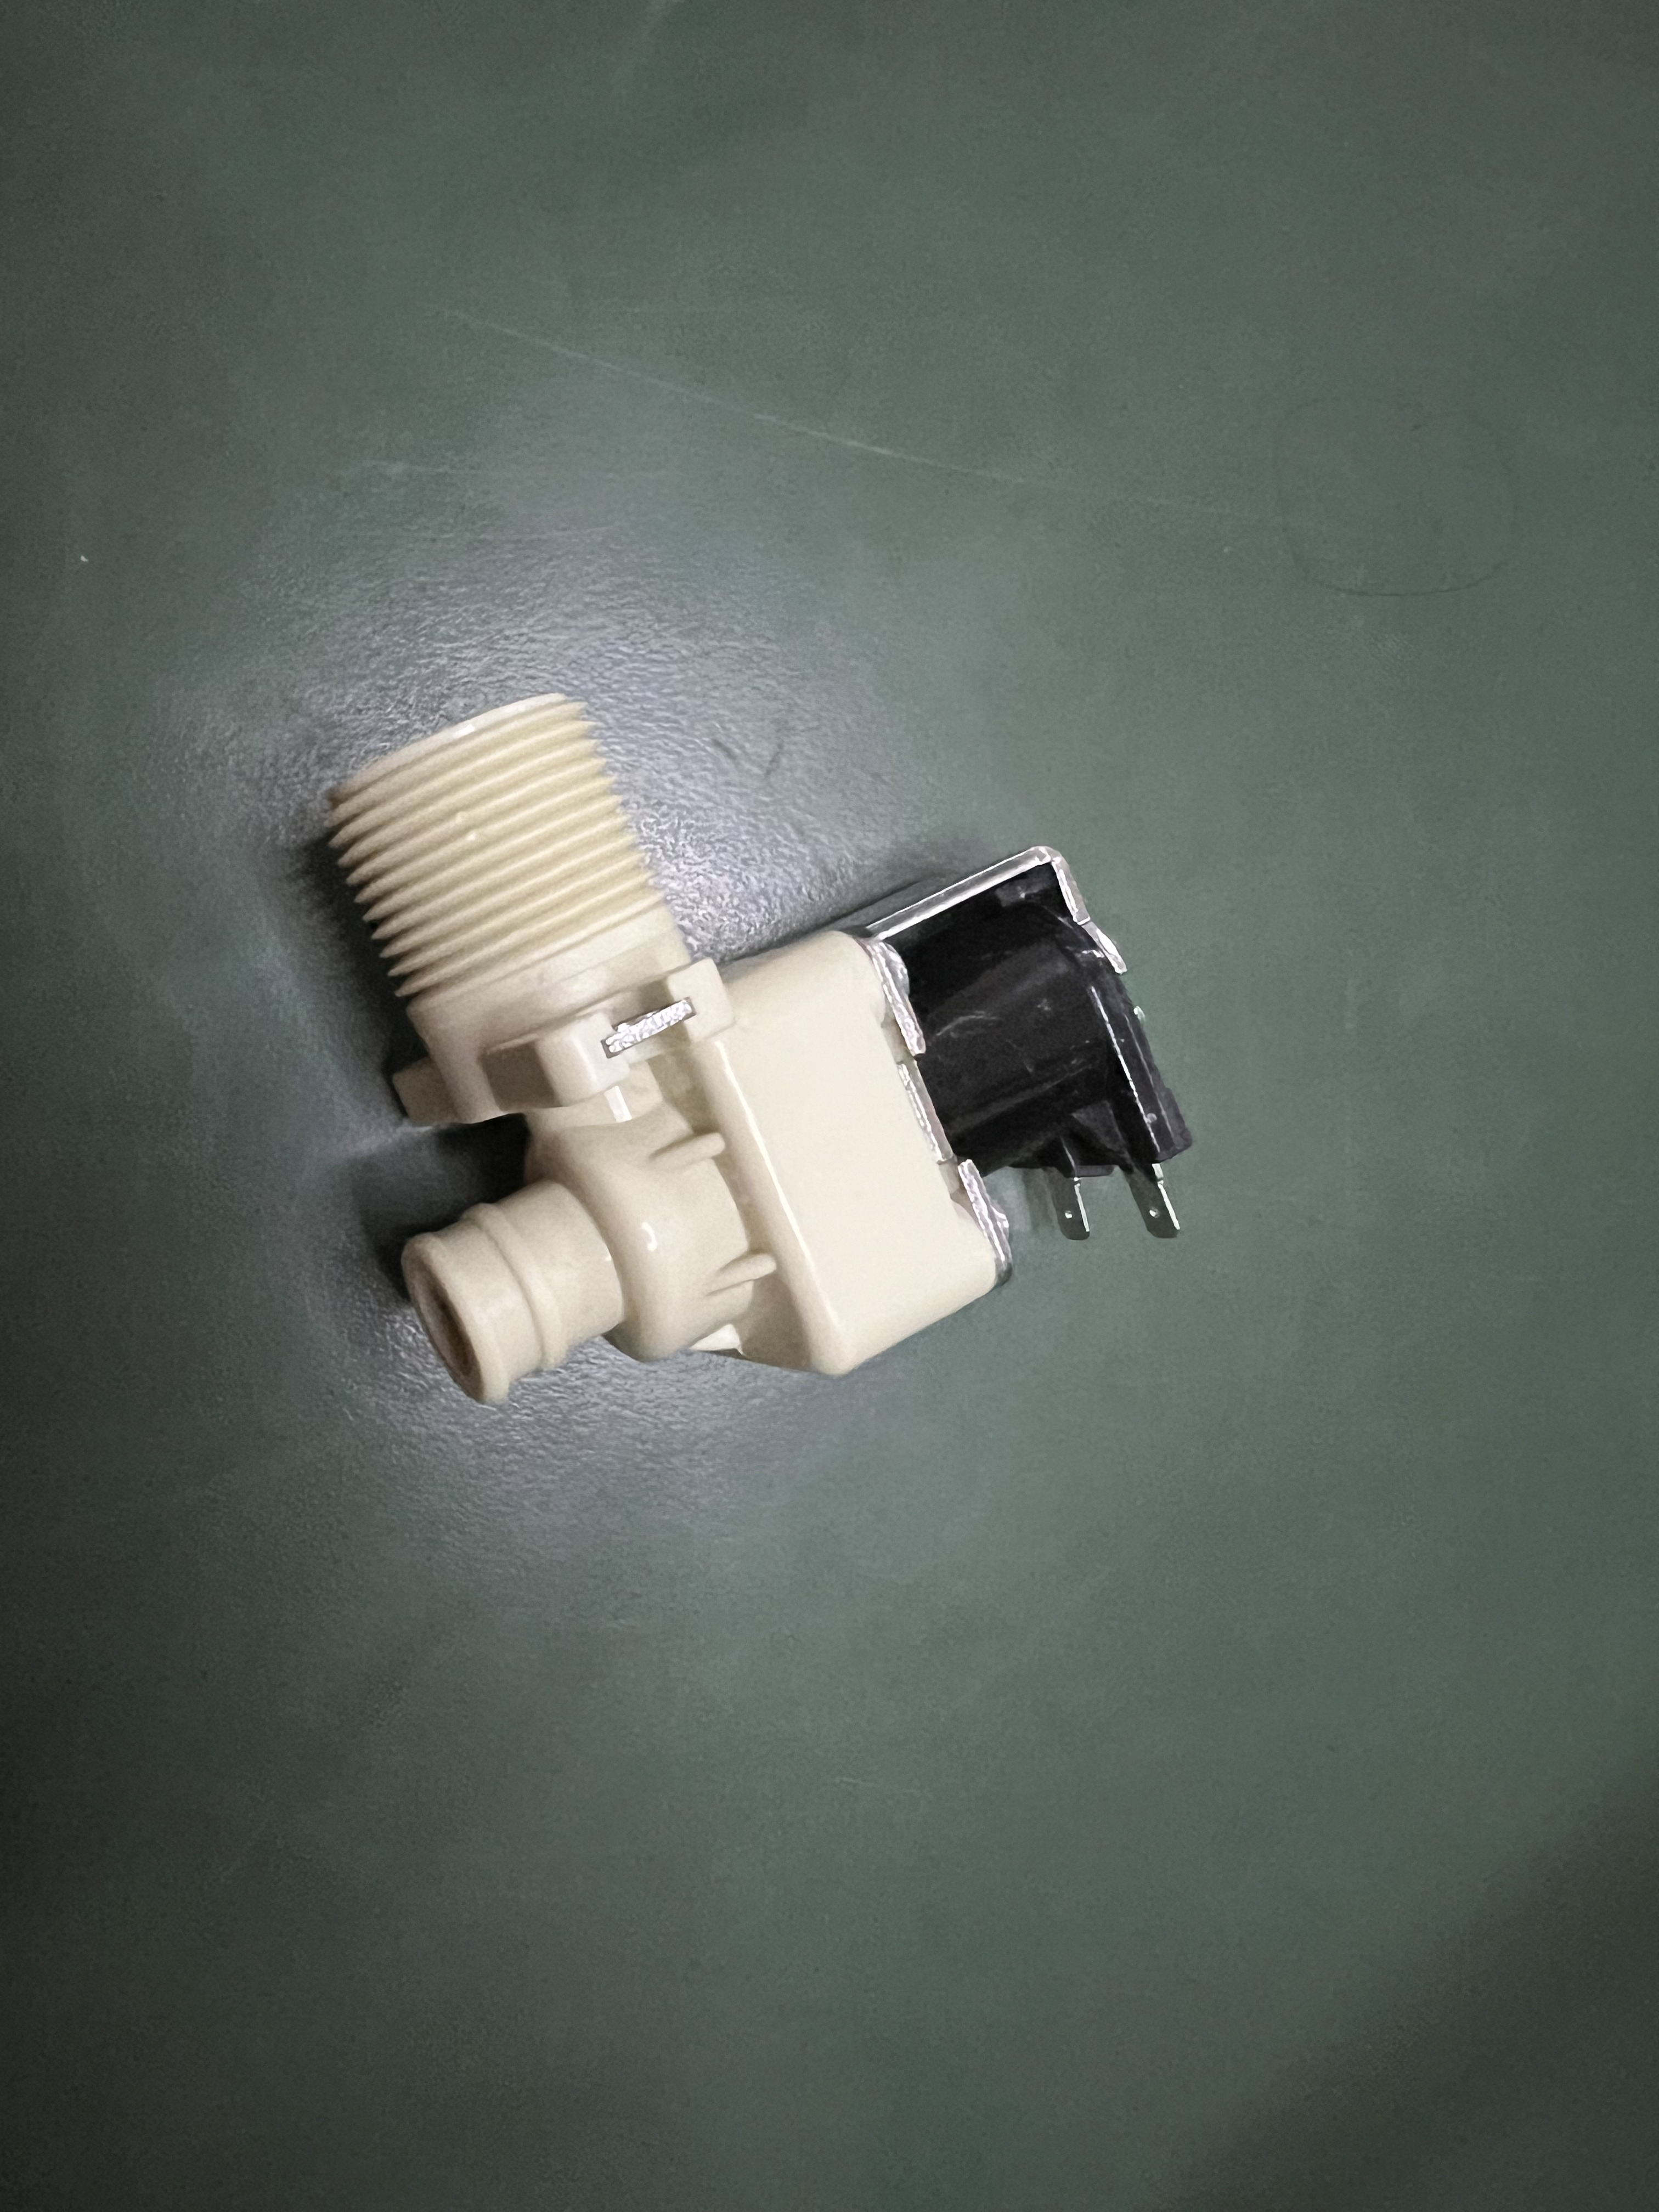godrej_inlet_valves: (263, 668, 1201, 1384)
